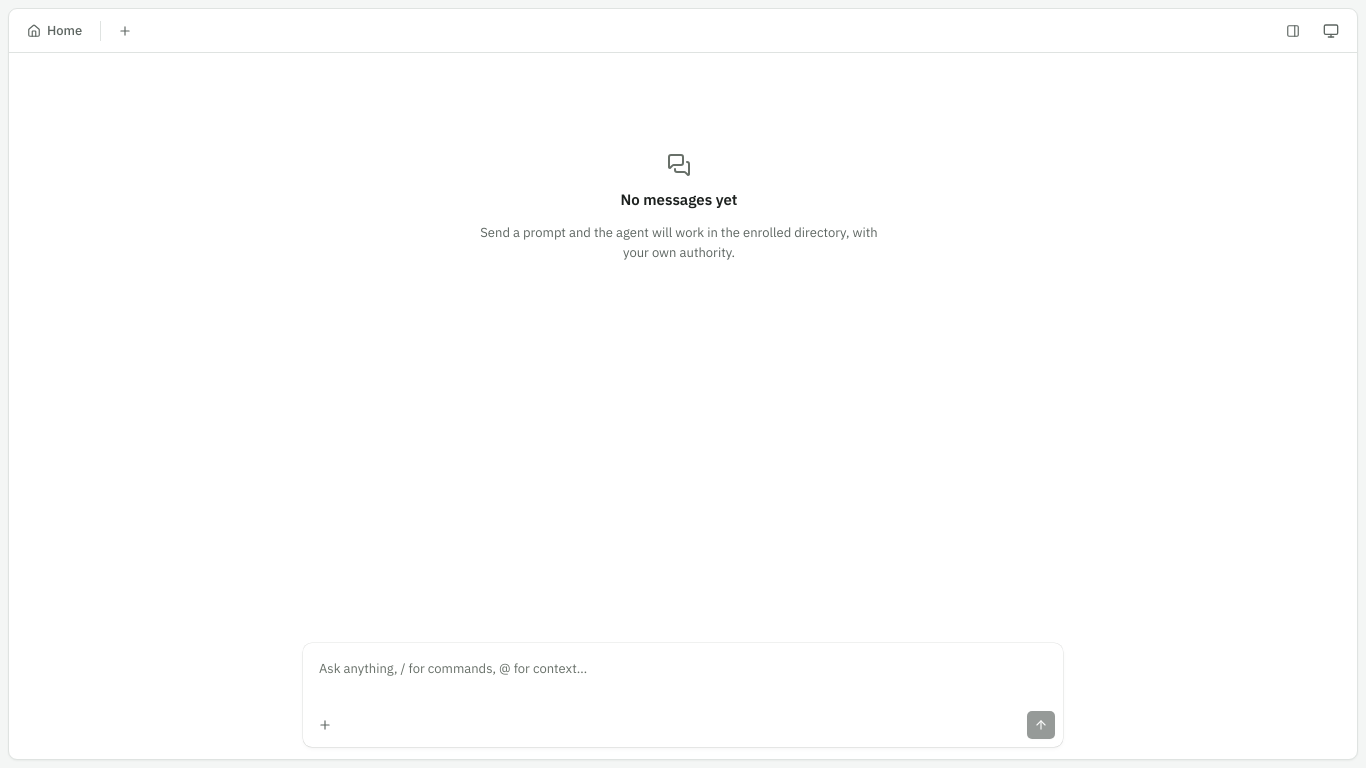
Scenario: SessionView › enters bash mode from the + menu without relying on typing !
Step 1. Click the button named "add to message" → (325, 725), box x1=311 y1=711 x2=339 y2=739
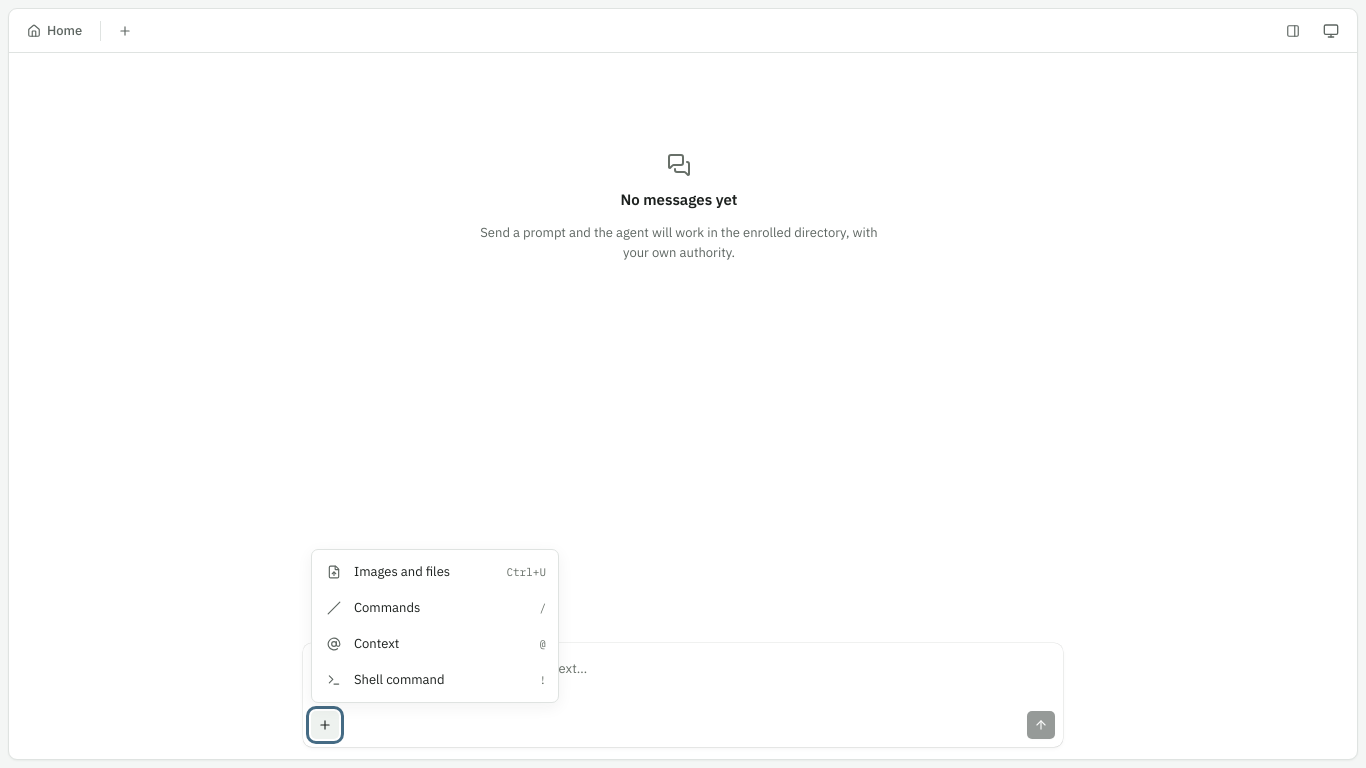
Step 2. Click the menu item "Shell command !" → (435, 680), box x1=312 y1=662 x2=558 y2=698
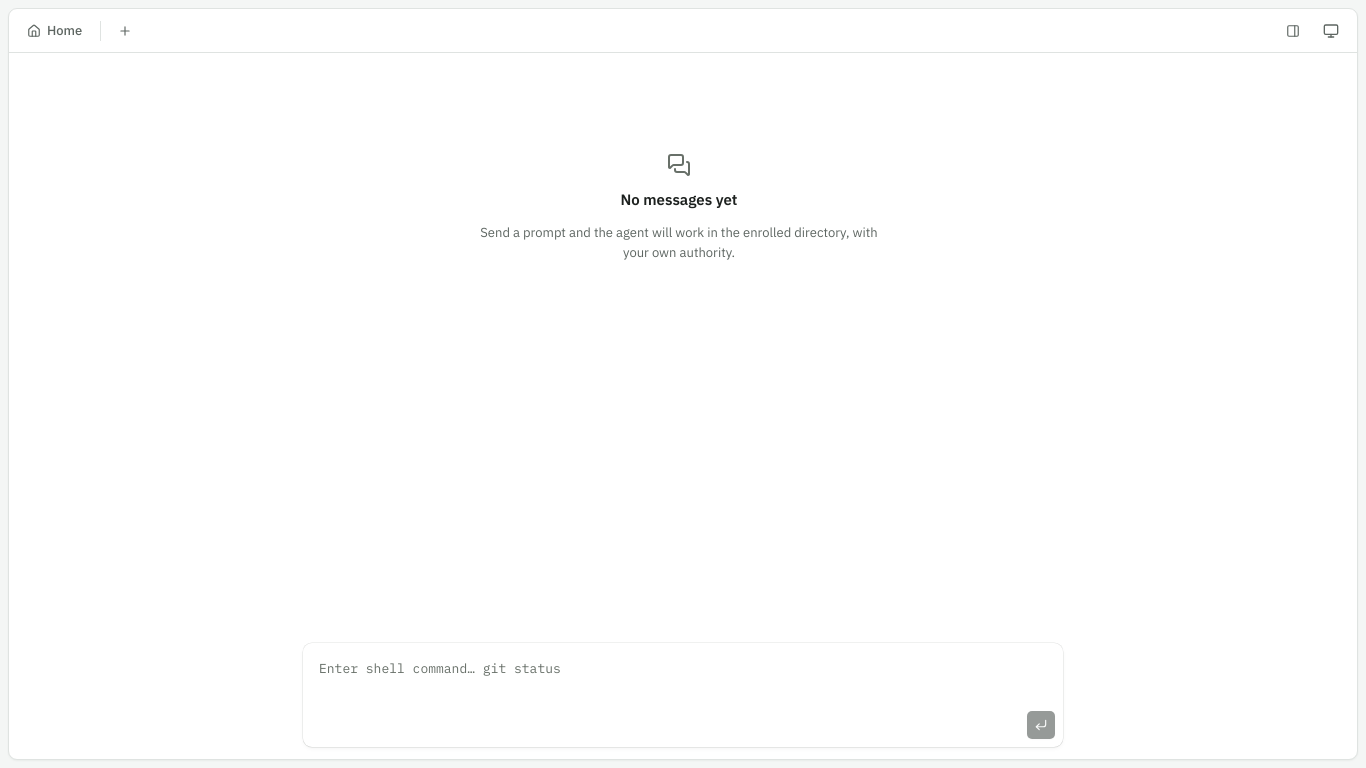
Now the text box with placeholder "Enter shell command… git status" is shown, box x1=303 y1=643 x2=1063 y2=703
